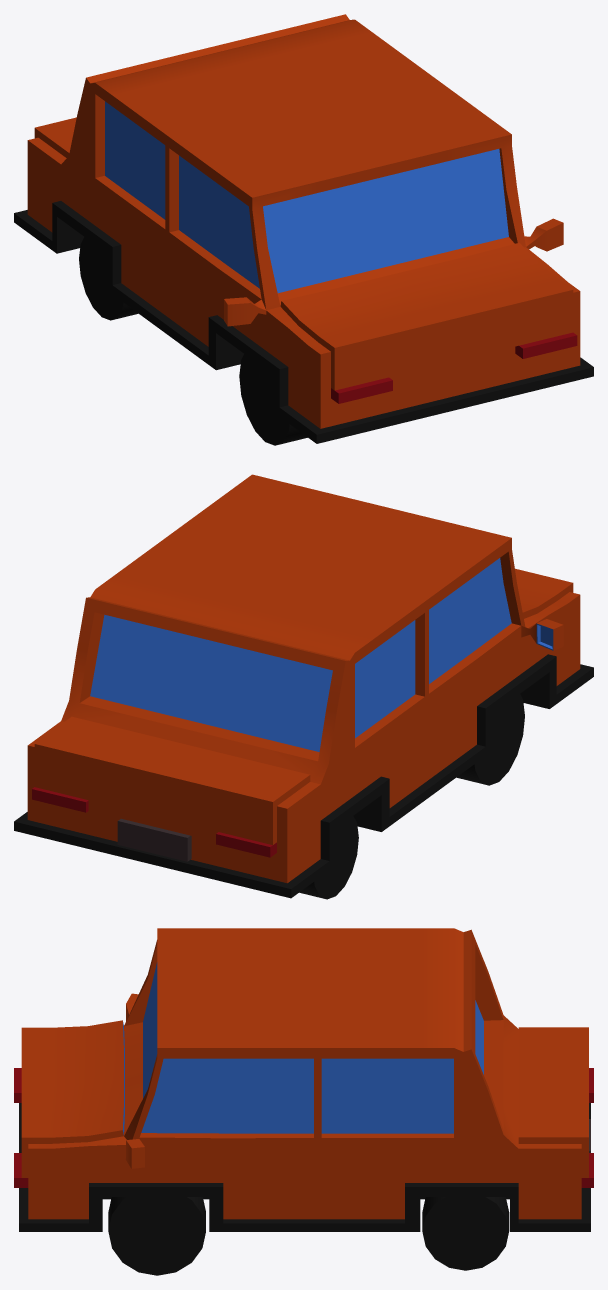
Rendered from CAR.fbx.
The picture shows the model from 3 angles, top to bottom: view 1: azimuth 30°, elevation 25°; view 2: azimuth 150°, elevation 25°; view 3: azimuth 270°, elevation 25°; orthographic projection. The views are drawn at different scales.
Visible parts, largest first — view 1: Cube, front_RIGHT_wheel_, back_RIGHT_wheel_; view 2: Cube, front_RIGHT_wheel_, BACK_PLATE, back_RIGHT_wheel_; view 3: Cube, front_LEFT_wheel, back_LEFT_wheel.
Boxes of the visible parts, bbox=[...] form: Cube: bbox=[14, 14, 593, 443]; front_RIGHT_wheel_: bbox=[239, 354, 307, 445]; back_RIGHT_wheel_: bbox=[79, 237, 138, 320]; Cube: bbox=[14, 474, 593, 898]; front_RIGHT_wheel_: bbox=[456, 694, 524, 785]; BACK_PLATE: bbox=[117, 818, 191, 861]; back_RIGHT_wheel_: bbox=[299, 816, 358, 899]; Cube: bbox=[14, 928, 593, 1231]; front_LEFT_wheel: bbox=[108, 1197, 205, 1275]; back_LEFT_wheel: bbox=[422, 1197, 509, 1270].
Bounding box in the file's own units: 535 × 376 × 846.
